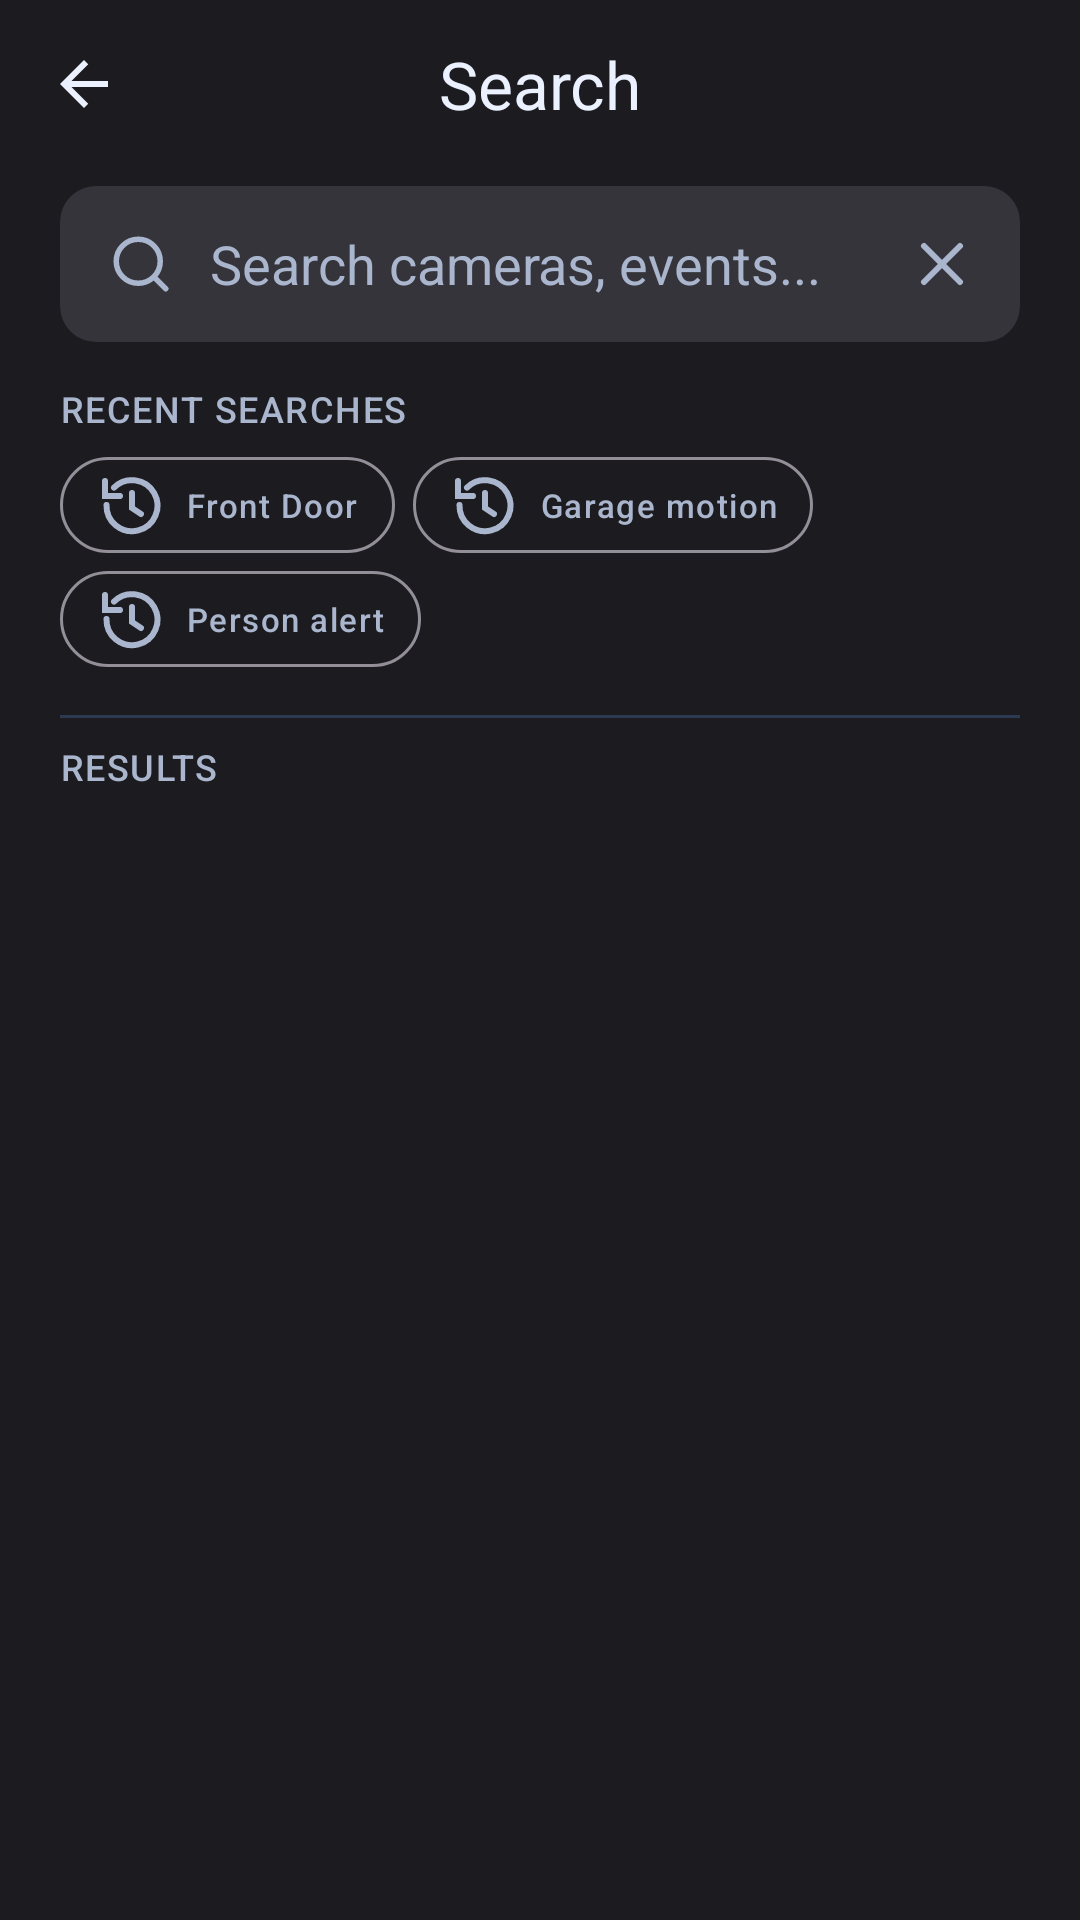

Where to tap for icons on this 1080px x 1920px app screen, as [x,y]:
Back: [84,84]
Clear: [942,264]
